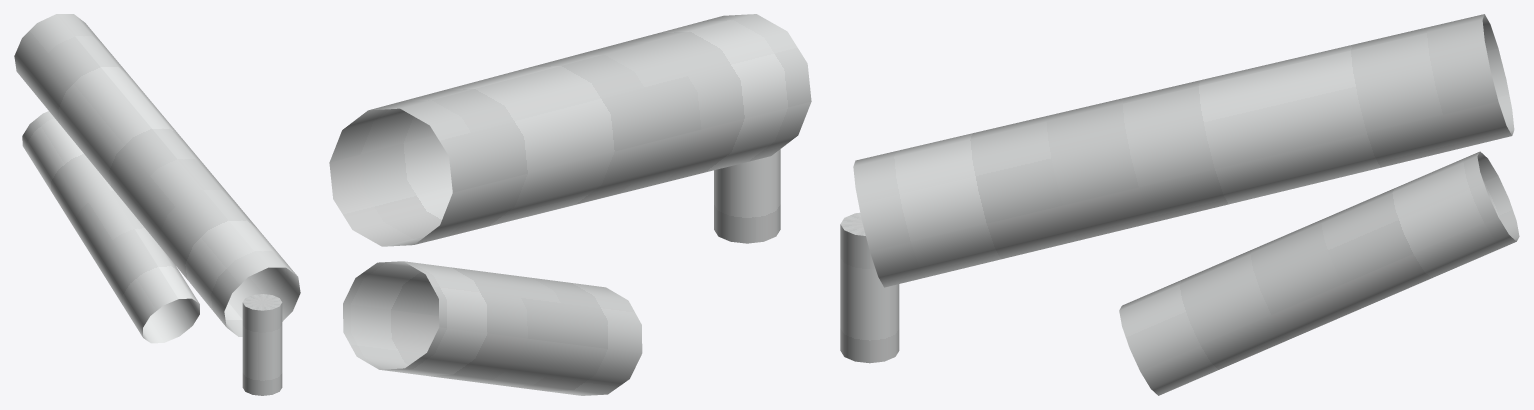
Rendered from luminairearm_truss15ftstraightdouble_c5.obj.
3 renders of one model, left to right at view 1: azimuth 30°, elevation 25°; view 2: azimuth 150°, elevation 25°; view 3: azimuth 270°, elevation 25°, orthographic. The views are drawn at different scales.
Visible parts, largest first — view 1: luminairearm_truss15ftstraightdouble_c5; view 2: luminairearm_truss15ftstraightdouble_c5; view 3: luminairearm_truss15ftstraightdouble_c5.
Part boxes in pixels (x1,y1,x2,y2): luminairearm_truss15ftstraightdouble_c5: [14, 14, 300, 395]; luminairearm_truss15ftstraightdouble_c5: [329, 14, 811, 395]; luminairearm_truss15ftstraightdouble_c5: [840, 14, 1519, 395].
Size of the model in its own units: 0.2083 by 0.6514 by 1.08.
